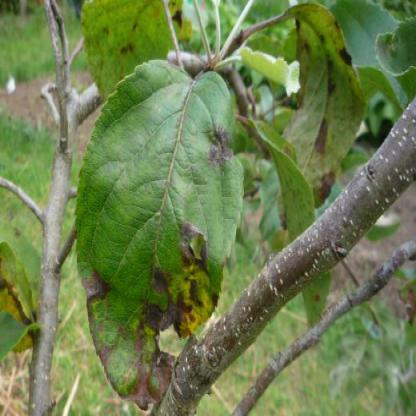Apple Scab Leaf: (74, 49, 236, 411)
